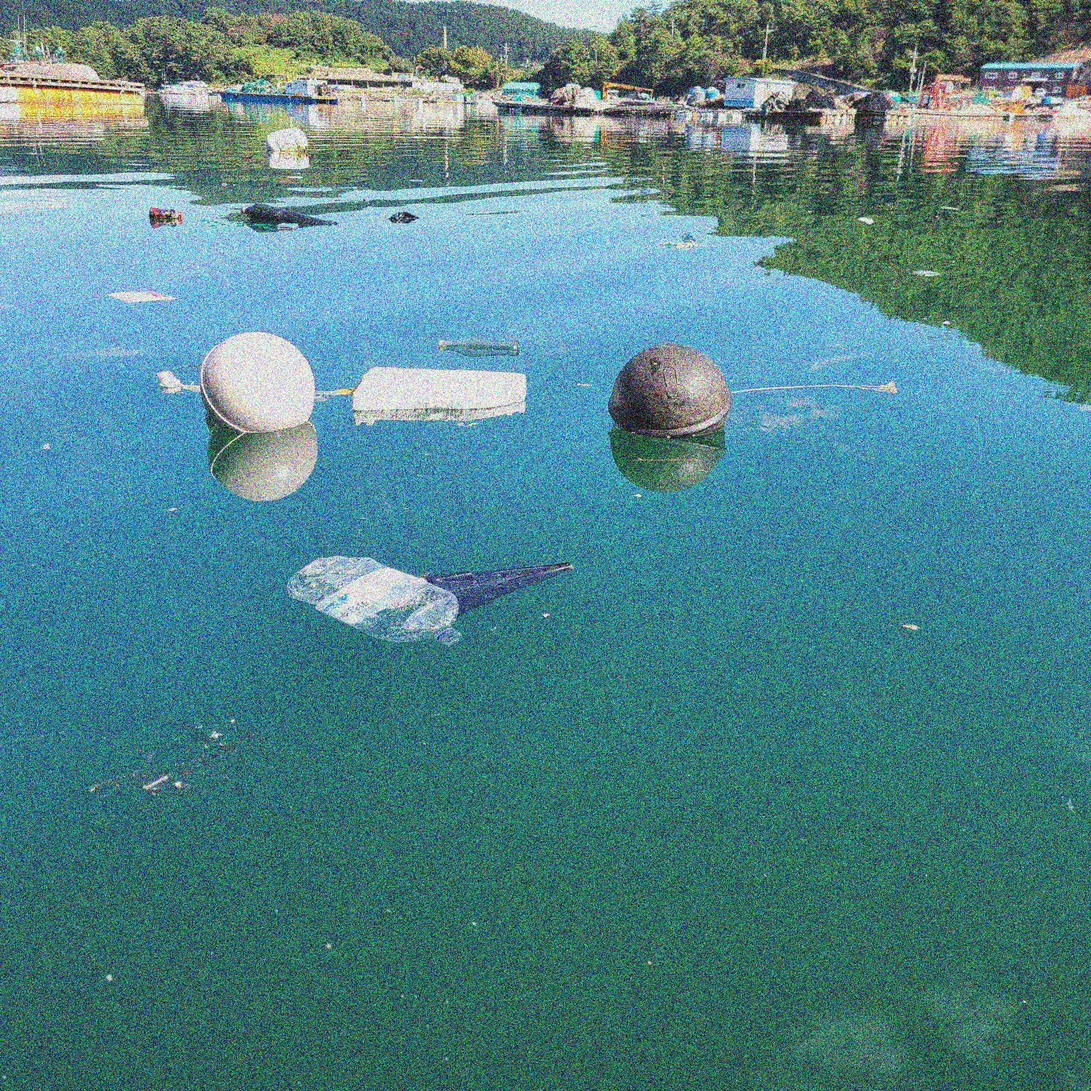sampah_terapung: (288, 557, 463, 646), (608, 344, 733, 439), (200, 332, 315, 433), (422, 563, 574, 622), (353, 366, 527, 411), (732, 381, 898, 394), (242, 204, 334, 225), (439, 337, 520, 358), (266, 128, 309, 152), (158, 372, 182, 388), (150, 208, 183, 219), (170, 364, 201, 372)
